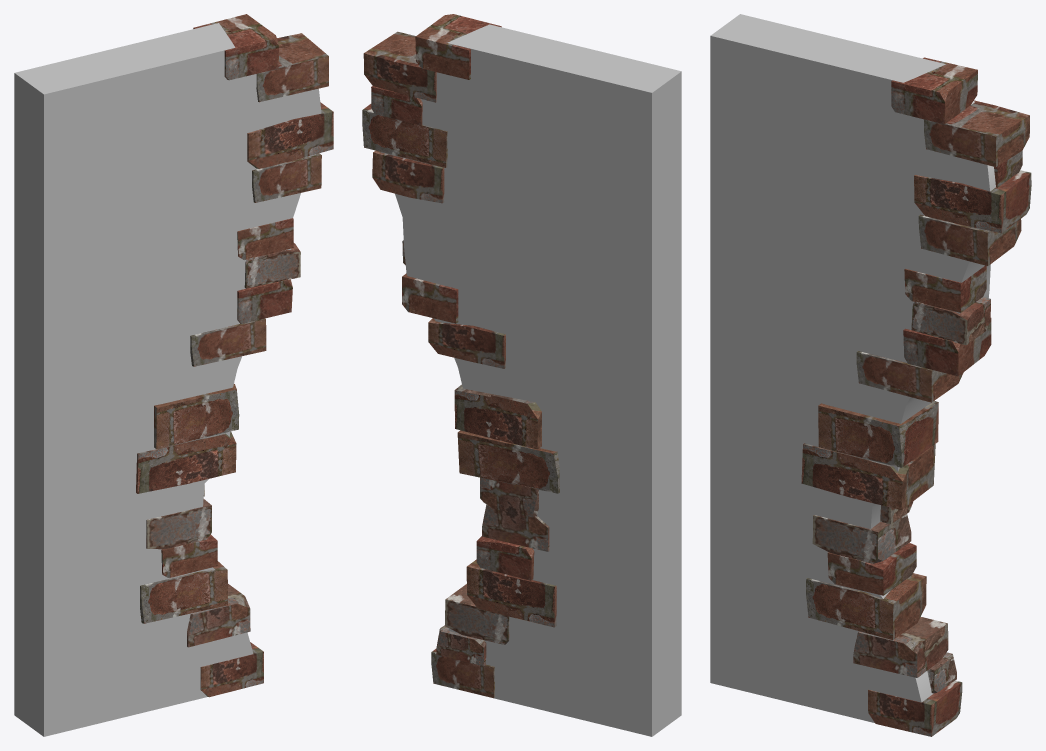
File: SM_Wall_Ruined_09.fbx
3 renders of one model, left to right at view 1: azimuth 30°, elevation 25°; view 2: azimuth 150°, elevation 25°; view 3: azimuth 330°, elevation 25°, orthographic.
Parts seen in each view (by area): view 1: SM_Wall_Ruined_09_LOD0; view 2: SM_Wall_Ruined_09_LOD0; view 3: SM_Wall_Ruined_09_LOD0.
Boxes of the visible parts, bbox=[...] form: SM_Wall_Ruined_09_LOD0: bbox=[14, 14, 333, 736]; SM_Wall_Ruined_09_LOD0: bbox=[362, 14, 681, 736]; SM_Wall_Ruined_09_LOD0: bbox=[710, 14, 1031, 736].
Size of what is drawn, in the model's own units: 283 by 600 by 62.01.
